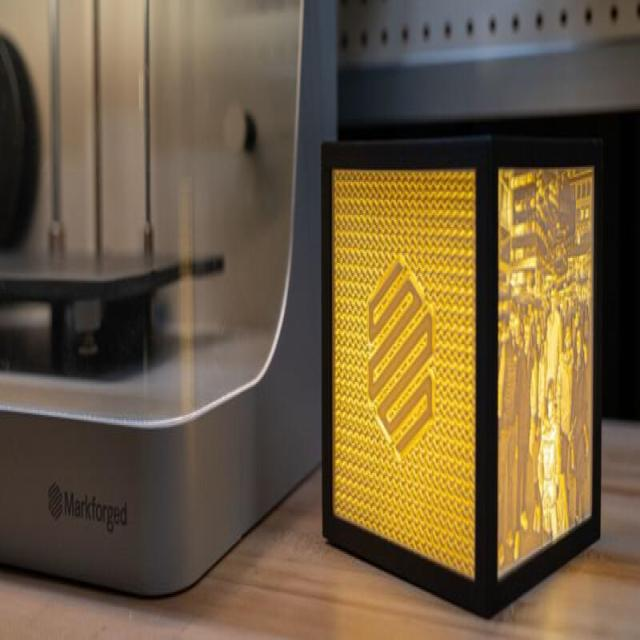Without deffect: (304, 131, 635, 613)
